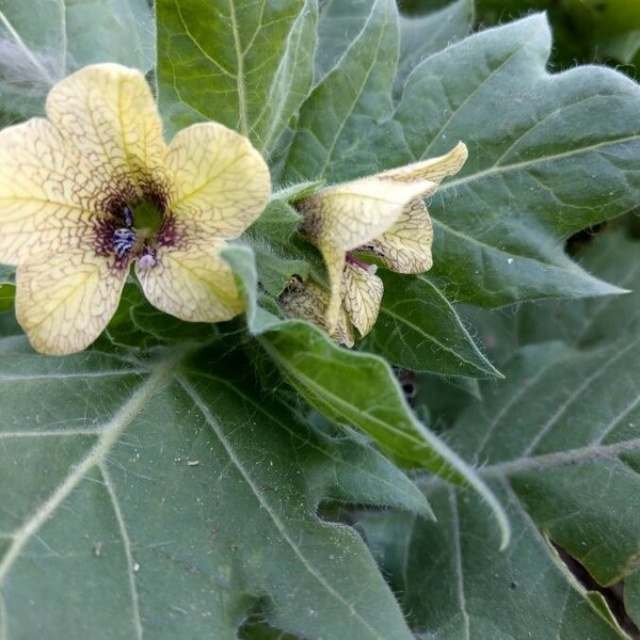obstacle: (26, 12, 564, 614)
